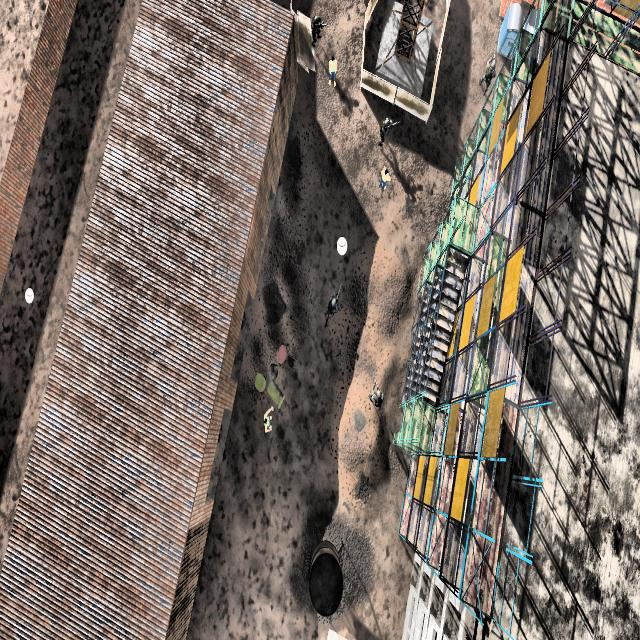bad: (365, 368, 390, 423), (476, 43, 499, 96), (324, 289, 347, 331), (306, 7, 327, 52), (376, 109, 400, 148)
good: (375, 151, 394, 205), (259, 399, 278, 445), (325, 48, 339, 88)
